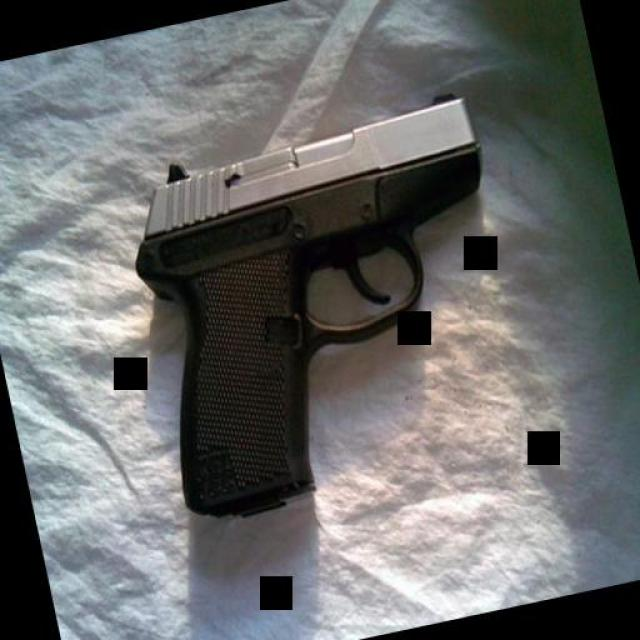gun: (114, 82, 546, 524)
